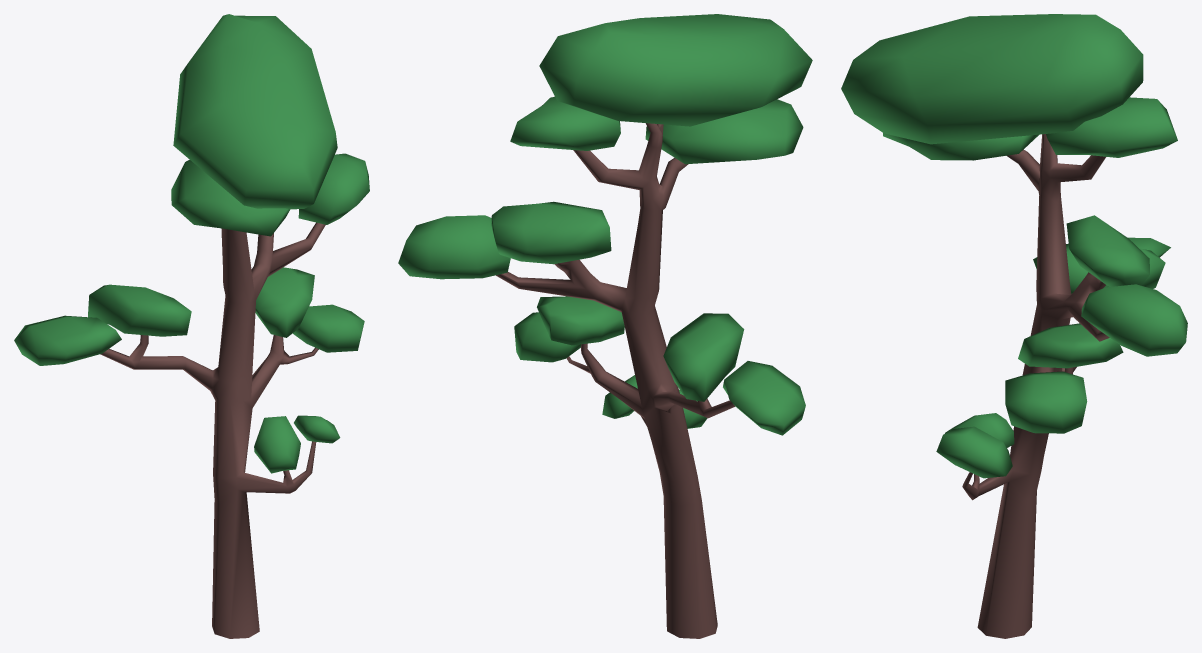
File: Arvore_Japonesa_6.fbx
3 views of the same model, side by side, from view 1: azimuth 30°, elevation 25°; view 2: azimuth 150°, elevation 25°; view 3: azimuth 270°, elevation 25° (orthographic). The views are drawn at different scales.
Visible parts, largest first — view 1: Arvore_Japonesa_6; view 2: Arvore_Japonesa_6; view 3: Arvore_Japonesa_6.
Boxes of the visible parts, <box> form: Arvore_Japonesa_6: <box>14,14,369,638</box>; Arvore_Japonesa_6: <box>398,14,812,638</box>; Arvore_Japonesa_6: <box>841,14,1187,638</box>.
Bounding box in the file's own units: 2.52 × 3.24 × 5.05.
